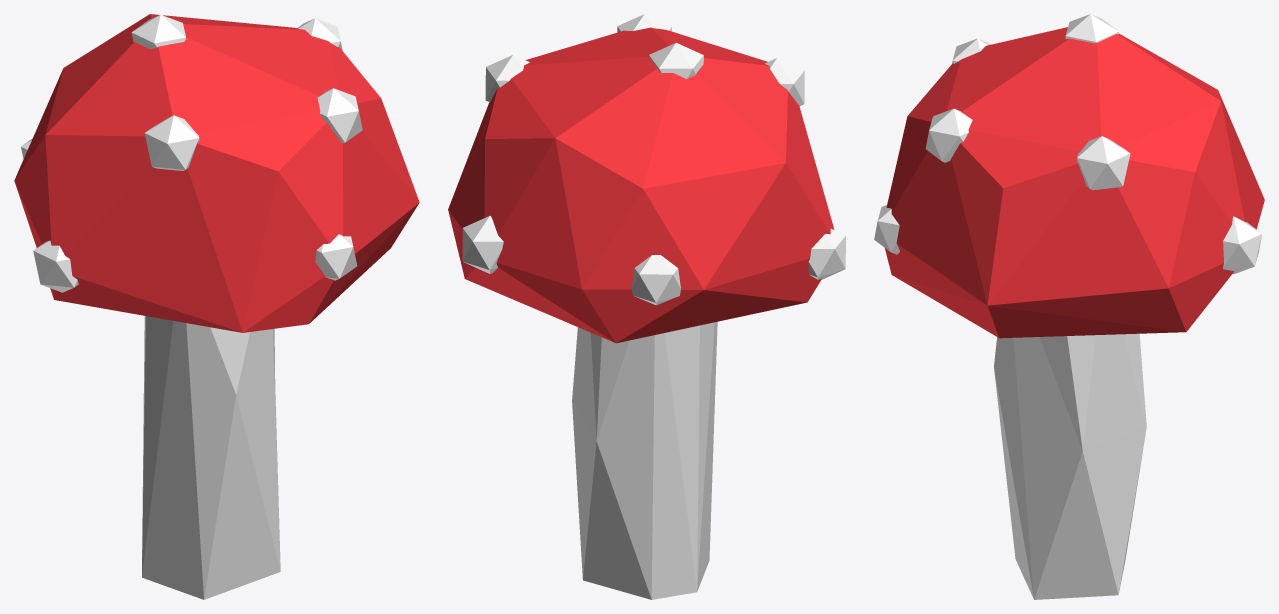
Rendered from RedMushroom.fbx.
The picture shows the model from 3 angles, left to right: view 1: azimuth 30°, elevation 25°; view 2: azimuth 150°, elevation 25°; view 3: azimuth 270°, elevation 25°; orthographic projection. The views are drawn at different scales.
Visible parts, largest first — view 1: Mushroom1; view 2: Mushroom1; view 3: Mushroom1.
Part boxes in pixels (x1,y1,x2,y2): Mushroom1: (14,14,419,599); Mushroom1: (448,14,845,599); Mushroom1: (874,14,1264,599).
Bounding box in the file's own units: 0.3611 × 0.5461 × 0.3563.
